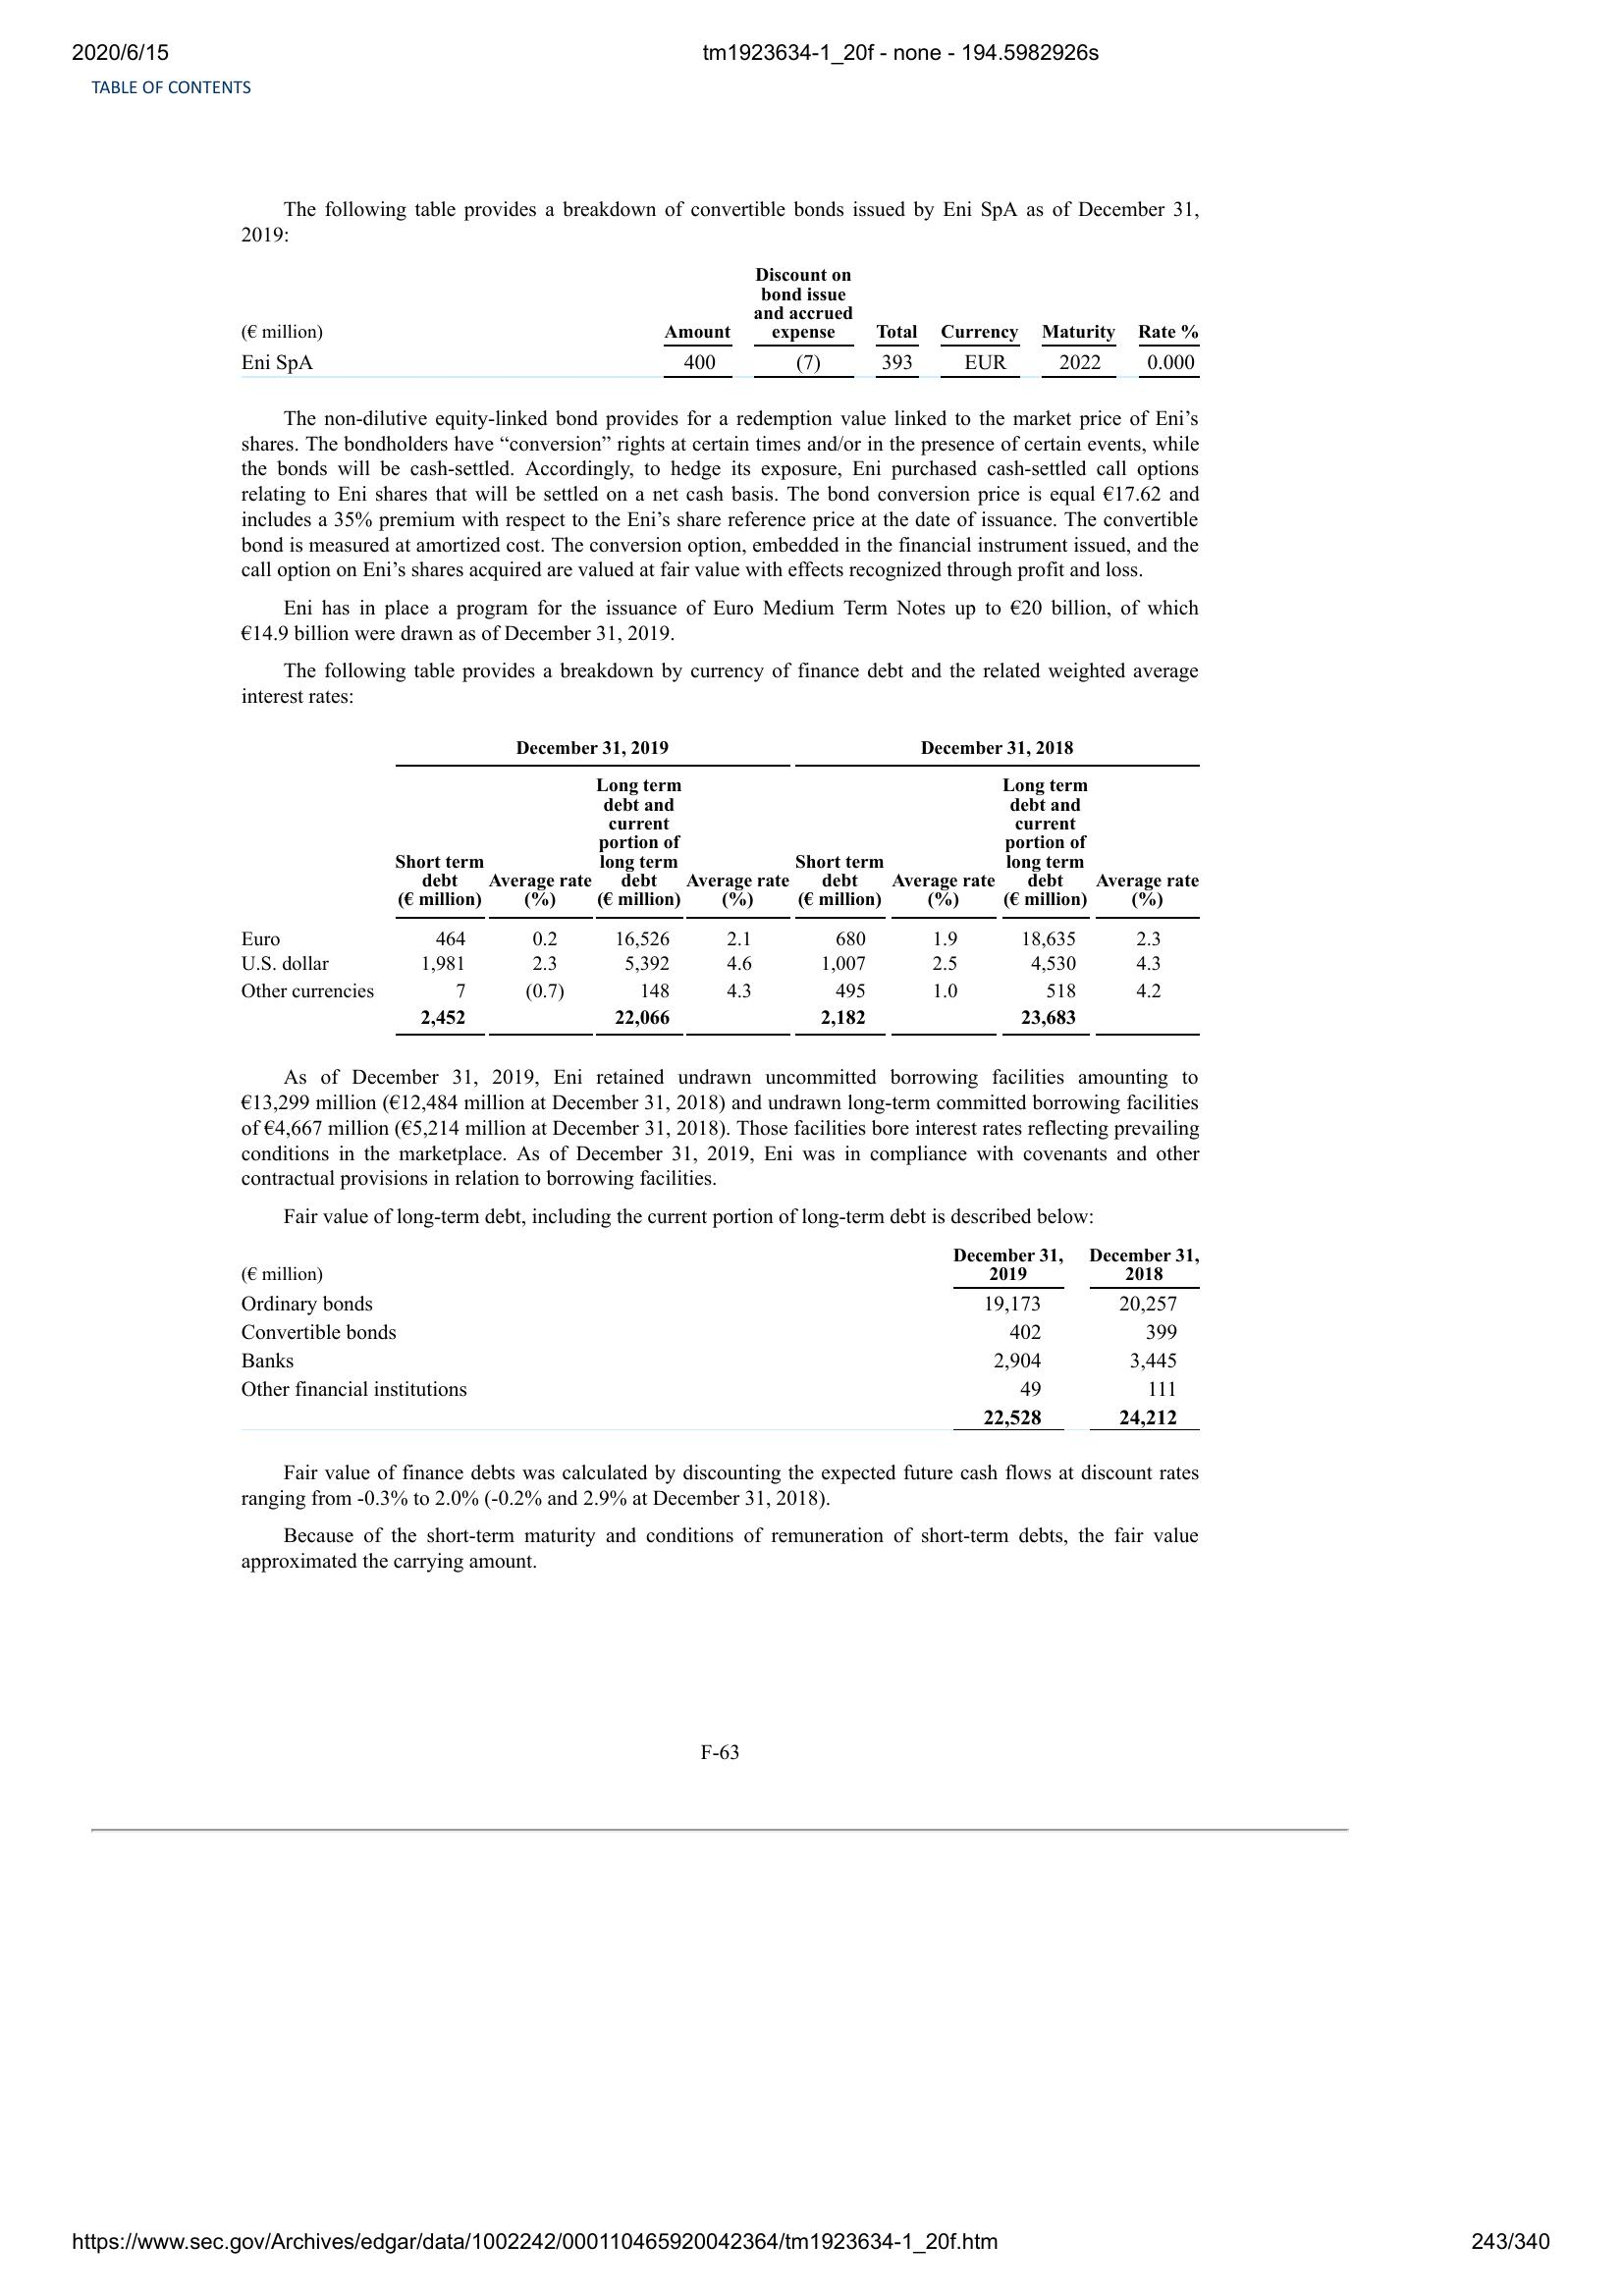table: (234, 728, 1208, 1041), (235, 1241, 1200, 1438), (235, 263, 1205, 384)
